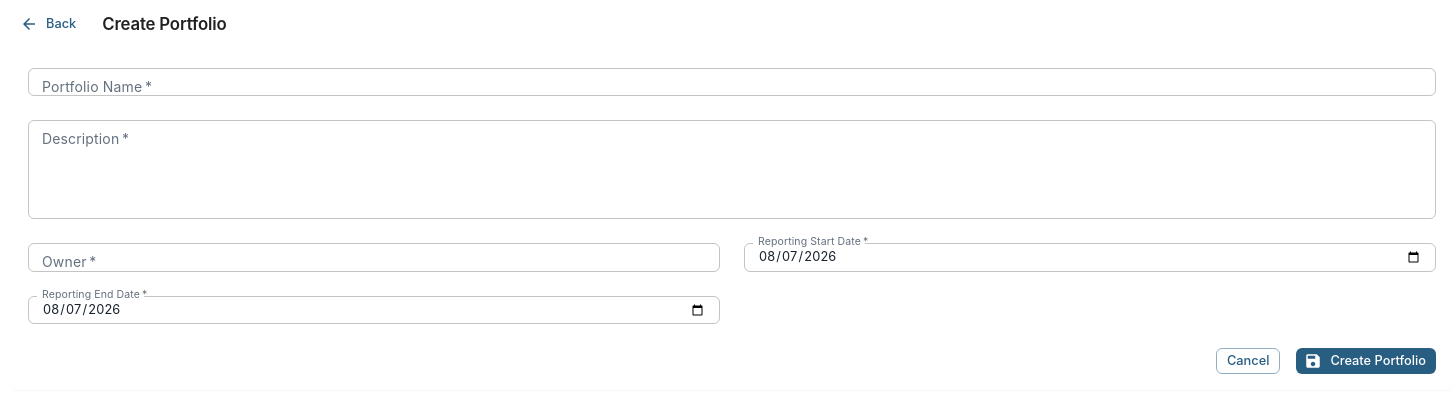
PortfolioFormPage › should validate date range
# Fill in required fields
Type "Test Portfolio" into the field labelled "Portfolio Name *" at (732, 82), box [28, 68, 1436, 96]
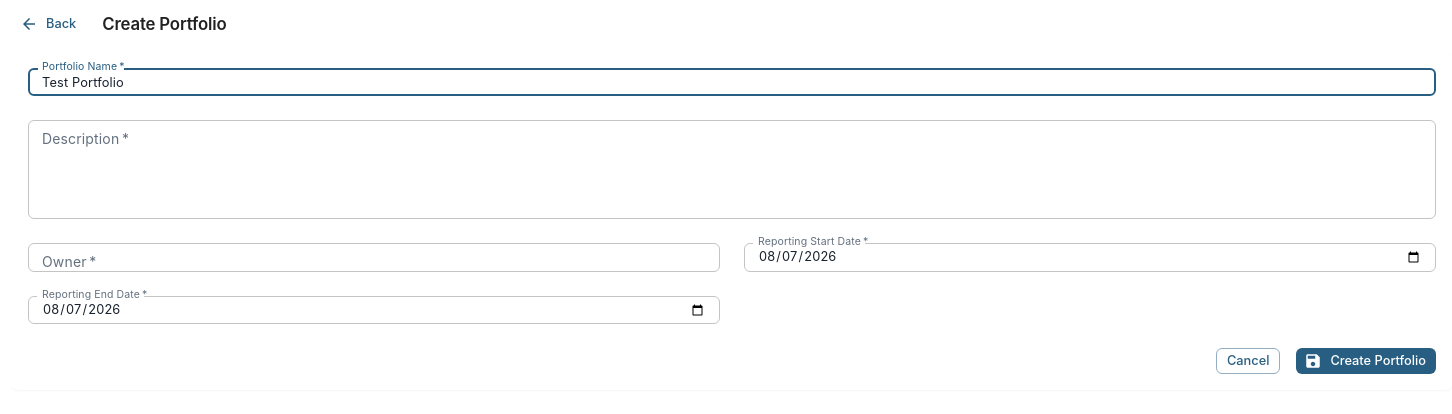
Type "Test Description" into the text box labelled "Description *" at (732, 170), box [42, 129, 1422, 211]
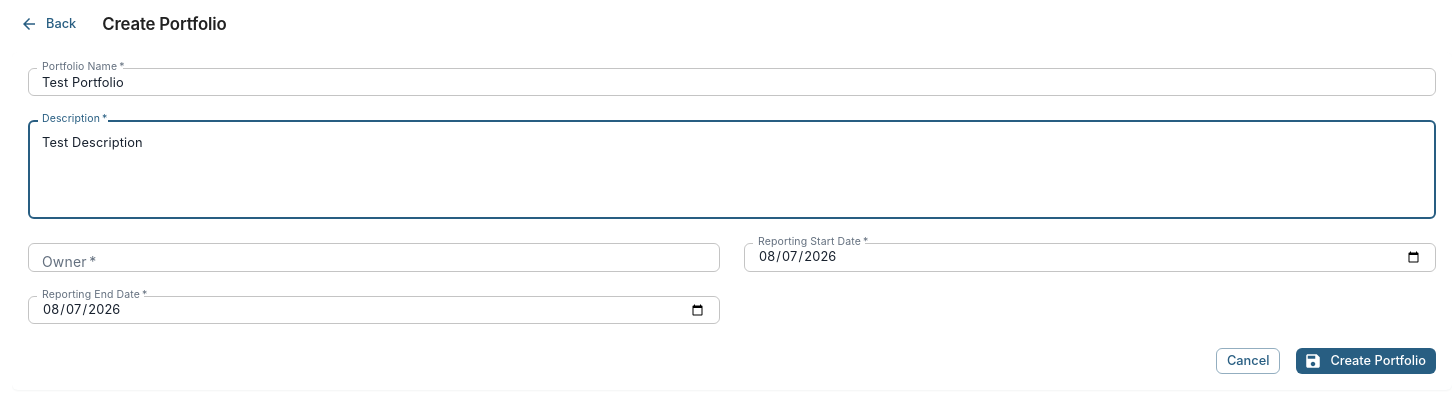
Type "Test Owner" into the field labelled "Owner *" at (374, 258), box [28, 243, 720, 272]
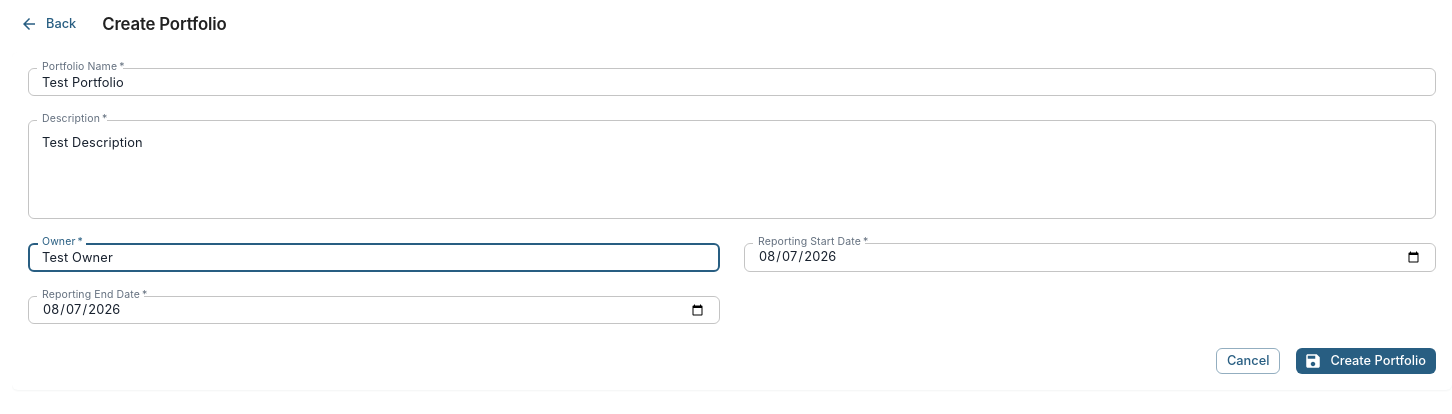
Type "2024-12-31" into the date field labelled "Reporting Start Date *" at (1090, 258), box [744, 243, 1436, 272]
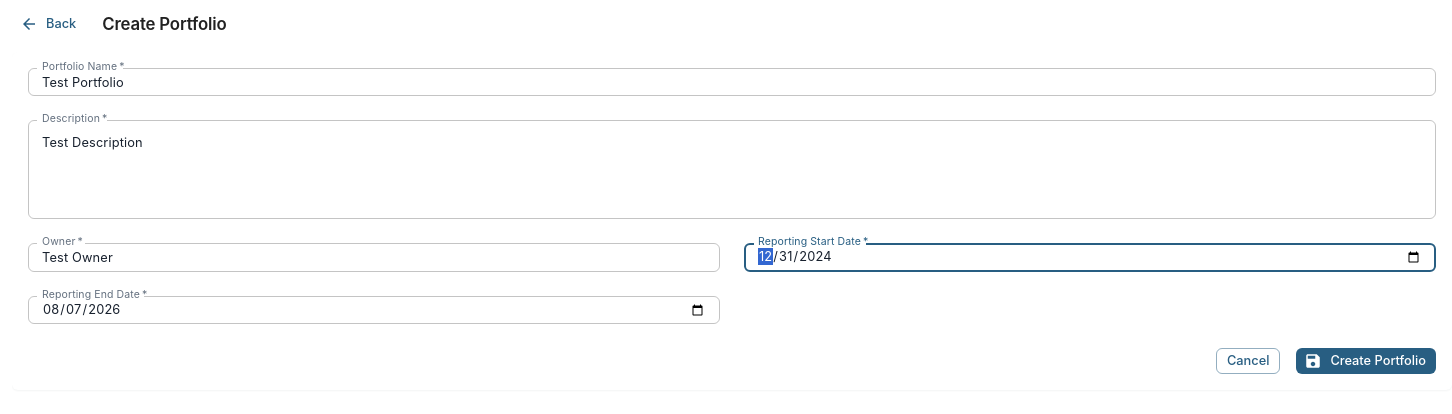
Type "2024-01-01" into the date field labelled "Reporting End Date *" at (374, 310), box [28, 296, 720, 324]
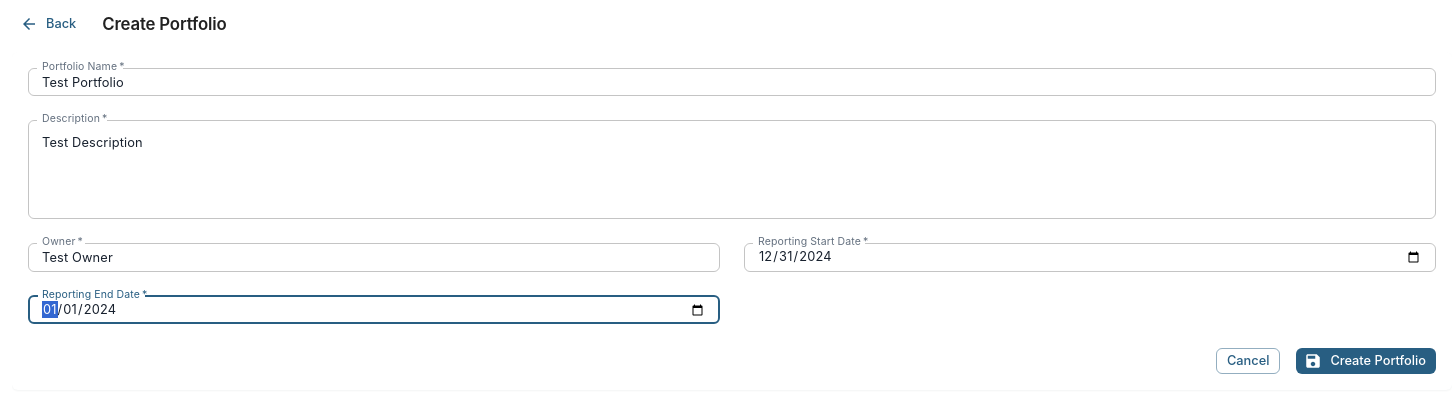
# Try to submit
Click the button "Create Portfolio" at (1366, 361), box [1296, 348, 1436, 374]
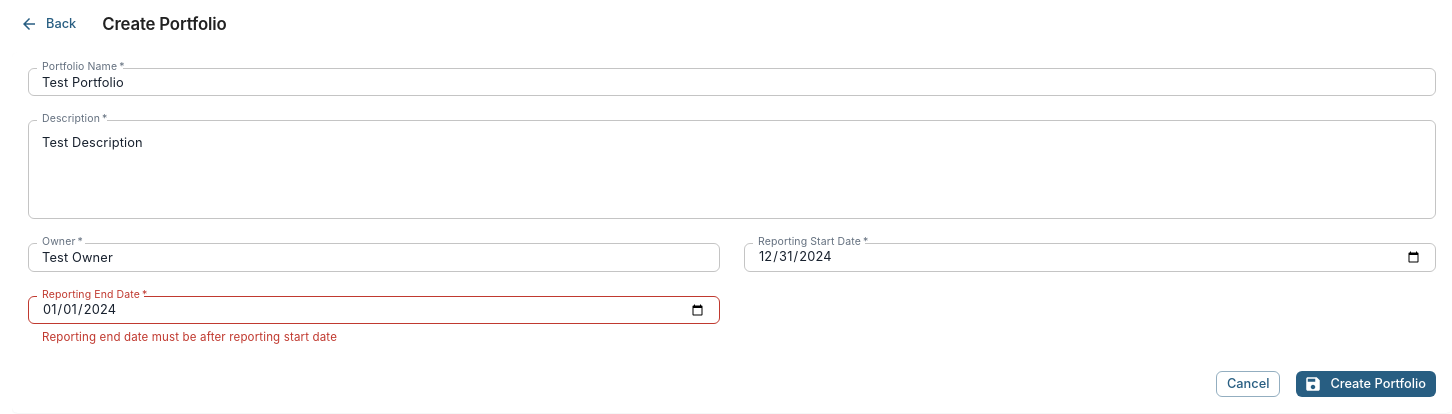
Expected: the text "Reporting end date must be after reporting start date" is shown, [42, 330, 337, 344]
